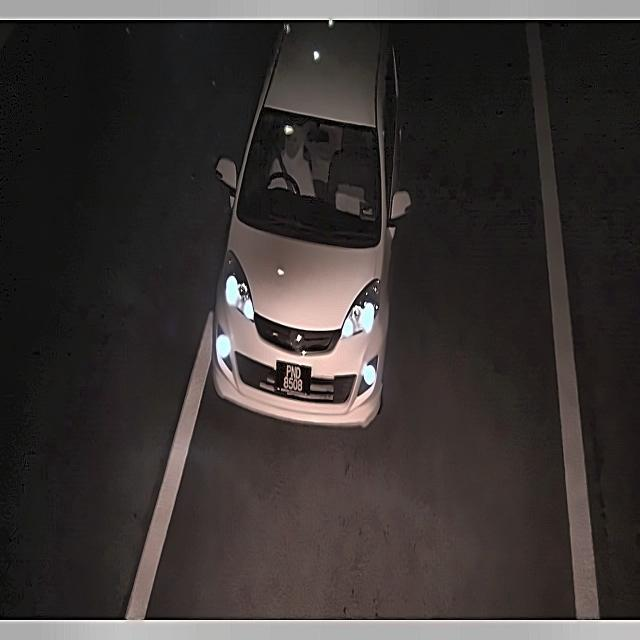car: (276, 358, 314, 401)
